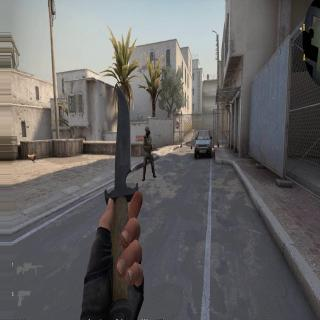CT-Body: (141, 124, 155, 183)
CT-Head: (144, 126, 150, 138)
